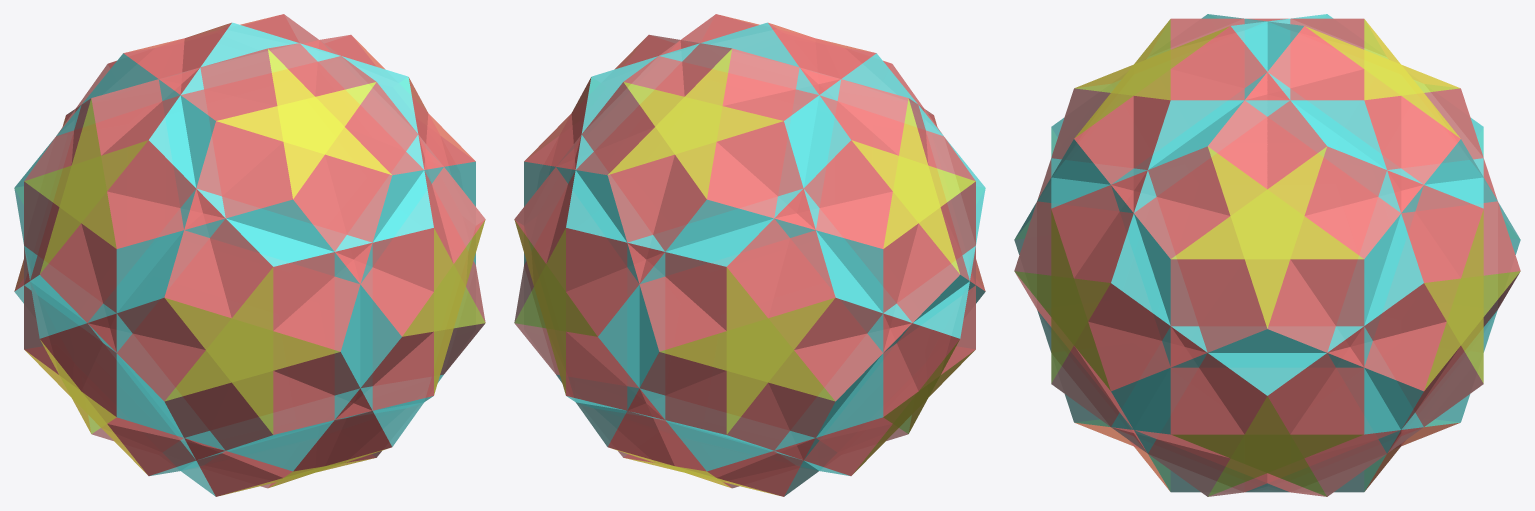
Rendered from Rhombidodecadodecahedron.obj.
3 views of the same model, side by side, from view 1: azimuth 30°, elevation 25°; view 2: azimuth 150°, elevation 25°; view 3: azimuth 270°, elevation 25° (orthographic). The views are drawn at different scales.
Size of the model in its own units: 2.62 by 2.62 by 2.62.
